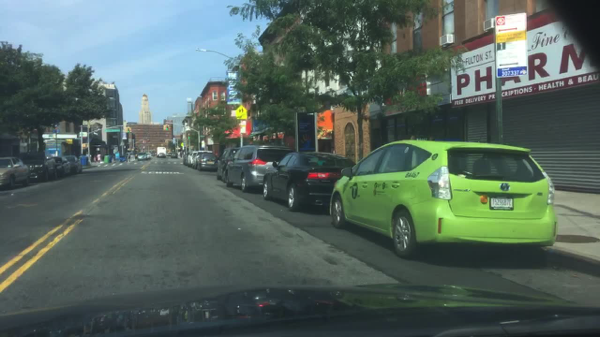bus: (155, 147, 166, 157)
car: (330, 138, 559, 260), (262, 150, 357, 212), (225, 145, 296, 194), (216, 147, 245, 184), (0, 156, 30, 191), (22, 157, 57, 183), (50, 157, 72, 178), (196, 152, 218, 172), (62, 155, 82, 174), (192, 151, 211, 169), (186, 150, 205, 166), (137, 152, 149, 162), (183, 150, 190, 167), (156, 153, 166, 159), (169, 152, 177, 158), (145, 152, 151, 160), (166, 152, 171, 156)
person: (96, 152, 101, 164), (93, 153, 97, 163)
traffic light: (81, 143, 88, 148), (124, 127, 128, 133), (127, 126, 130, 133), (162, 125, 165, 132), (129, 127, 132, 133), (187, 136, 191, 140), (165, 125, 167, 131), (167, 125, 169, 130)
traffic sign: (491, 12, 528, 77), (235, 105, 247, 120), (106, 130, 120, 133), (52, 128, 60, 133), (199, 135, 205, 138), (180, 143, 184, 147)
